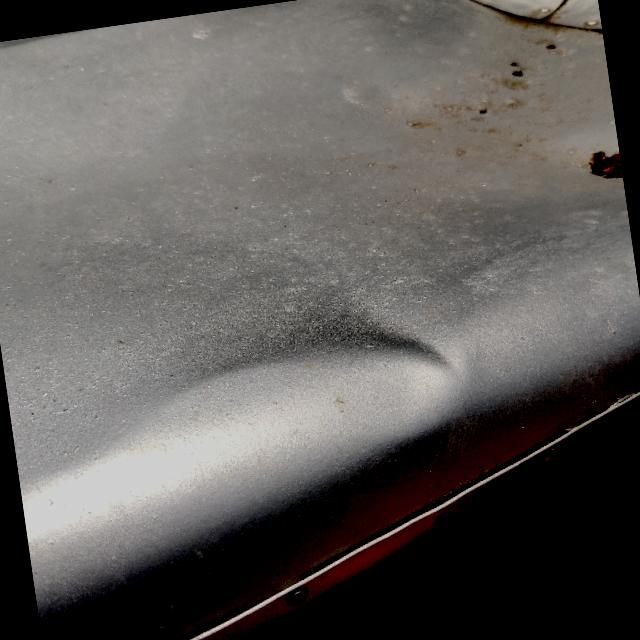dent: (292, 262, 484, 416)
